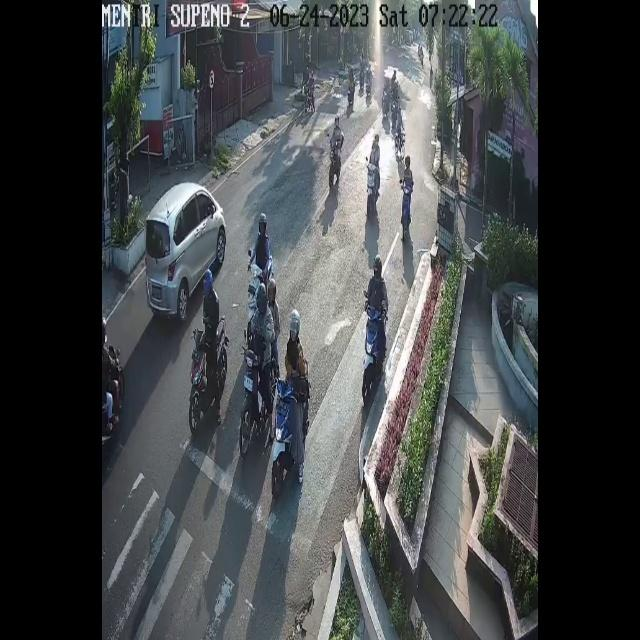bus: (271, 358, 308, 506), (190, 314, 227, 436), (239, 346, 263, 451), (103, 344, 125, 448), (362, 306, 383, 401), (245, 264, 262, 323), (366, 163, 378, 212), (329, 139, 341, 183), (402, 185, 411, 232), (391, 95, 398, 129), (347, 76, 355, 105), (381, 90, 389, 116)
motorcycle: (144, 182, 228, 320)
